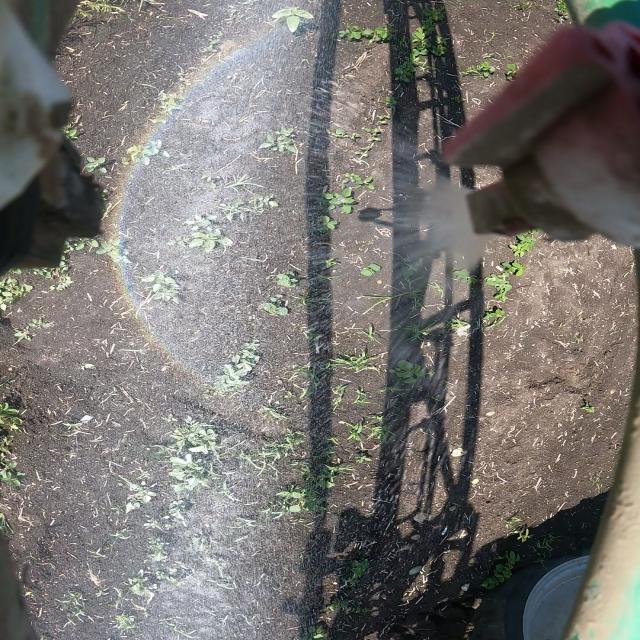plants: (202, 345, 263, 398), (325, 111, 394, 157), (155, 412, 228, 452), (134, 267, 196, 307), (162, 456, 226, 493), (247, 123, 313, 157), (380, 280, 440, 316), (320, 578, 379, 614), (263, 484, 324, 518), (280, 351, 324, 398), (261, 3, 323, 36), (60, 234, 128, 264), (178, 213, 231, 251), (245, 440, 292, 479), (0, 273, 43, 314), (338, 416, 389, 450), (478, 547, 520, 588), (294, 458, 360, 483), (113, 480, 160, 513), (58, 589, 102, 623), (404, 27, 457, 55), (324, 164, 384, 188), (323, 351, 379, 375), (118, 142, 174, 166), (224, 197, 279, 221), (480, 301, 525, 329), (334, 22, 396, 42), (37, 267, 81, 294), (117, 573, 155, 603), (383, 358, 428, 383), (387, 54, 432, 79), (74, 0, 132, 19), (500, 234, 547, 257), (334, 557, 384, 578), (250, 400, 297, 422), (206, 176, 255, 197), (484, 274, 523, 300), (248, 296, 294, 318), (156, 562, 198, 586), (528, 538, 570, 562), (264, 268, 309, 290), (321, 187, 363, 210), (366, 84, 408, 107), (101, 613, 145, 634), (452, 58, 498, 78), (0, 400, 30, 430), (402, 322, 452, 340), (352, 324, 397, 344), (0, 452, 24, 489), (392, 254, 429, 278), (300, 210, 344, 230), (168, 498, 198, 526), (135, 511, 174, 532), (496, 255, 534, 276), (444, 264, 486, 283), (442, 314, 484, 333), (320, 384, 348, 412), (503, 515, 534, 539), (307, 616, 338, 640), (144, 537, 174, 560), (352, 384, 382, 407), (353, 261, 394, 277), (421, 6, 457, 24), (544, 0, 572, 22), (85, 155, 117, 174), (105, 523, 136, 542), (7, 329, 40, 346), (308, 256, 345, 271), (508, 0, 538, 18), (227, 515, 256, 531), (24, 318, 60, 330), (62, 127, 87, 144), (500, 63, 522, 80), (0, 433, 21, 448), (577, 399, 595, 416)
